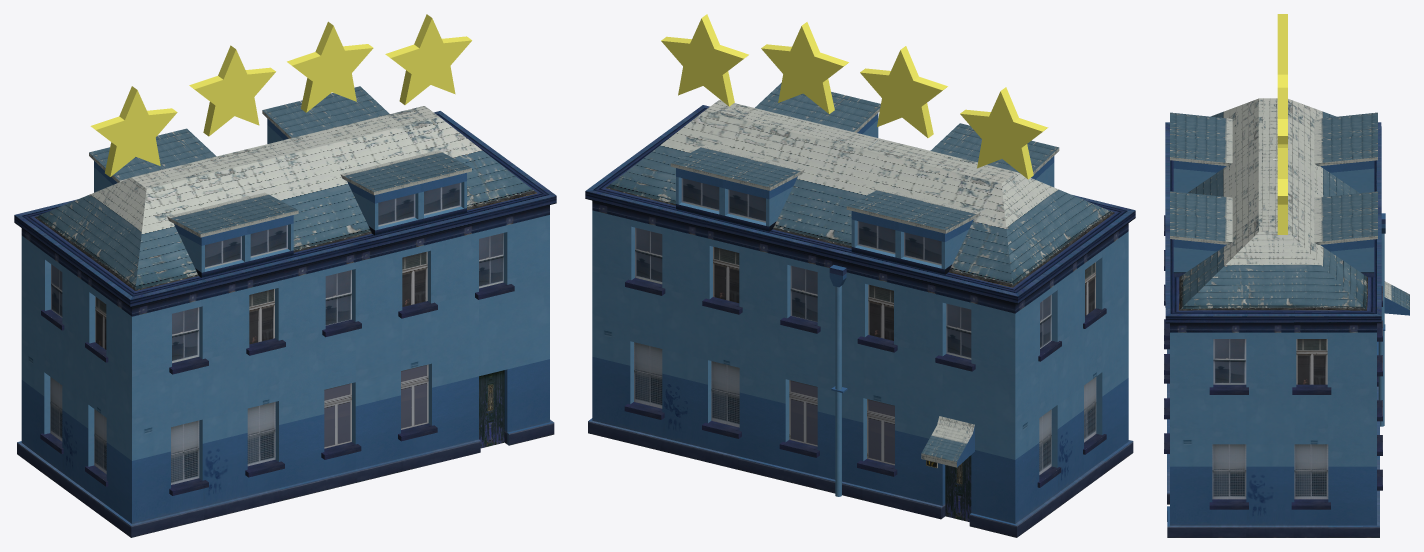
Rendered from 四星级酒店.gltf.
The picture shows the model from 3 angles, left to right: view 1: azimuth 30°, elevation 25°; view 2: azimuth 150°, elevation 25°; view 3: azimuth 270°, elevation 25°; orthographic projection. The views are drawn at different scales.
Parts seen in each view (by area): view 1: node__-14068, node_star (3)_-14080, node_star (2)_-14078, node_star (4)_-14082, node_star (1)_-14076; view 2: node__-14068, node_star (2)_-14078, node_star (3)_-14080, node_star (1)_-14076, node_star (4)_-14082; view 3: node__-14068, node_star (3)_-14080, node_star (1)_-14076, node_star (2)_-14078, node_star (4)_-14082.
Boxes of the visible parts, left/top/right/bottom form: node__-14068: left=14, top=86, right=556, bottom=537; node_star (3)_-14080: left=385, top=14, right=471, bottom=104; node_star (2)_-14078: left=189, top=45, right=275, bottom=136; node_star (4)_-14082: left=90, top=86, right=177, bottom=176; node_star (1)_-14076: left=287, top=21, right=373, bottom=112; node__-14068: left=585, top=83, right=1135, bottom=537; node_star (2)_-14078: left=860, top=46, right=947, bottom=137; node_star (3)_-14080: left=661, top=14, right=748, bottom=106; node_star (1)_-14076: left=761, top=22, right=848, bottom=114; node_star (4)_-14082: left=960, top=87, right=1047, bottom=179; node__-14068: left=1164, top=98, right=1409, bottom=537; node_star (3)_-14080: left=1277, top=148, right=1287, bottom=234; node_star (1)_-14076: left=1277, top=87, right=1287, bottom=147; node_star (2)_-14078: left=1277, top=43, right=1287, bottom=87; node_star (4)_-14082: left=1277, top=14, right=1287, bottom=43.
Size of the model in its own units: 10.56 by 9.54 by 5.64.
